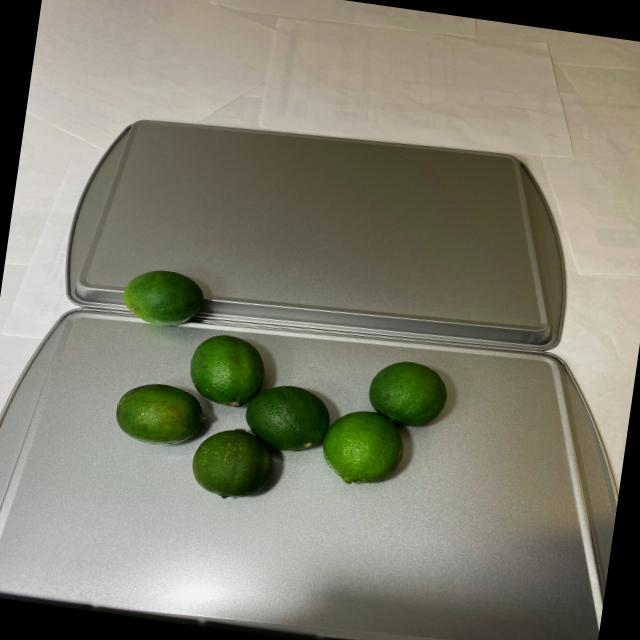lemon: (95, 265, 458, 529)
